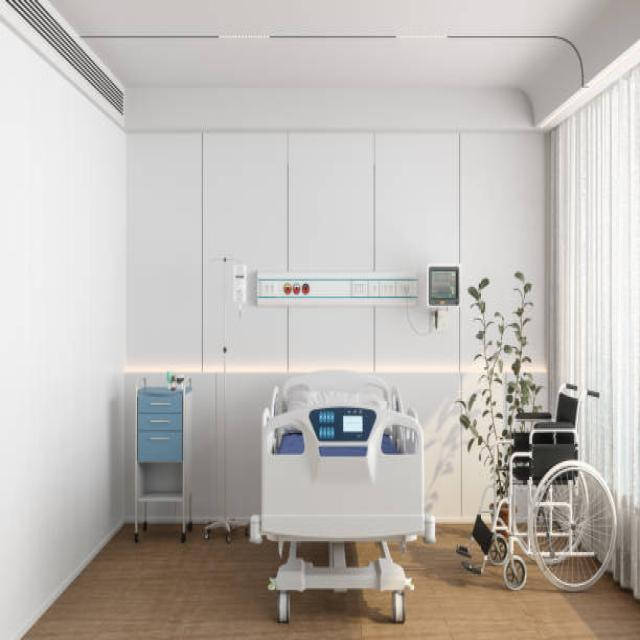Monitor: (422, 258, 460, 324)
Saline Stand: (199, 243, 247, 554)
bed: (255, 373, 425, 624)
chair: (457, 357, 622, 622)
tools_table: (123, 361, 203, 554)
